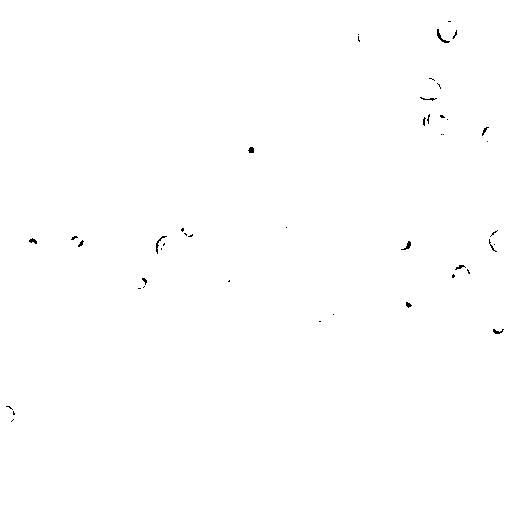micro-algae: (343, 24, 459, 129), (77, 117, 155, 201), (403, 41, 477, 114), (96, 70, 167, 140), (229, 119, 279, 175), (257, 5, 307, 56), (79, 265, 123, 305), (421, 106, 455, 139), (1, 0, 39, 28), (135, 159, 165, 194), (151, 233, 183, 264), (36, 75, 65, 105), (399, 288, 425, 321), (424, 434, 452, 464), (183, 413, 213, 440), (214, 385, 243, 412), (415, 75, 443, 101), (139, 253, 167, 279), (309, 299, 337, 325), (59, 286, 87, 311), (447, 262, 472, 290), (487, 227, 511, 255), (386, 288, 415, 309), (436, 19, 461, 43), (217, 269, 242, 293), (56, 489, 81, 512), (288, 5, 315, 26), (481, 121, 507, 142), (240, 135, 261, 157), (21, 235, 41, 258), (273, 222, 297, 241), (392, 234, 414, 254), (357, 26, 377, 47), (178, 219, 198, 239), (179, 153, 197, 175), (210, 4, 230, 22), (341, 303, 359, 323), (1, 403, 17, 425), (487, 316, 505, 335), (275, 243, 295, 260), (69, 234, 87, 250), (133, 273, 149, 290), (341, 415, 358, 431)
